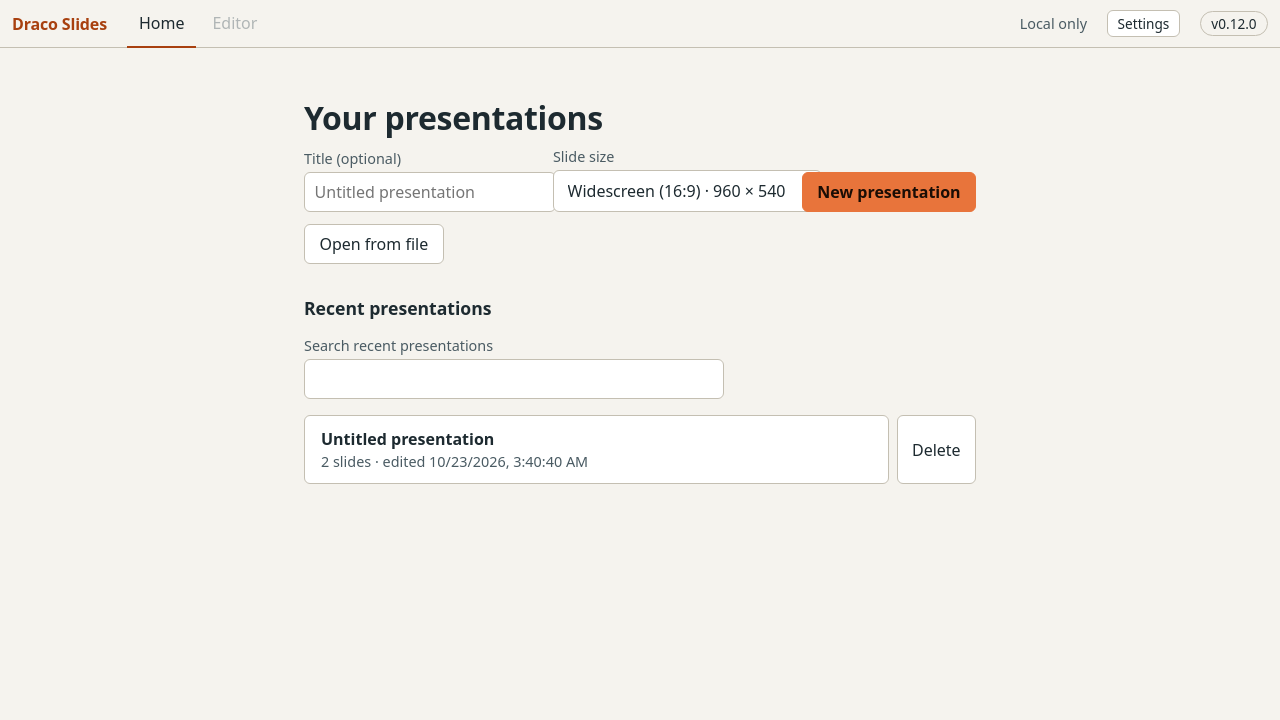
Test case: selection stays synchronized › shows slide names under the thumbnails
Click the button "New presentation" at (889, 192), box left=802, top=172, right=976, bottom=212
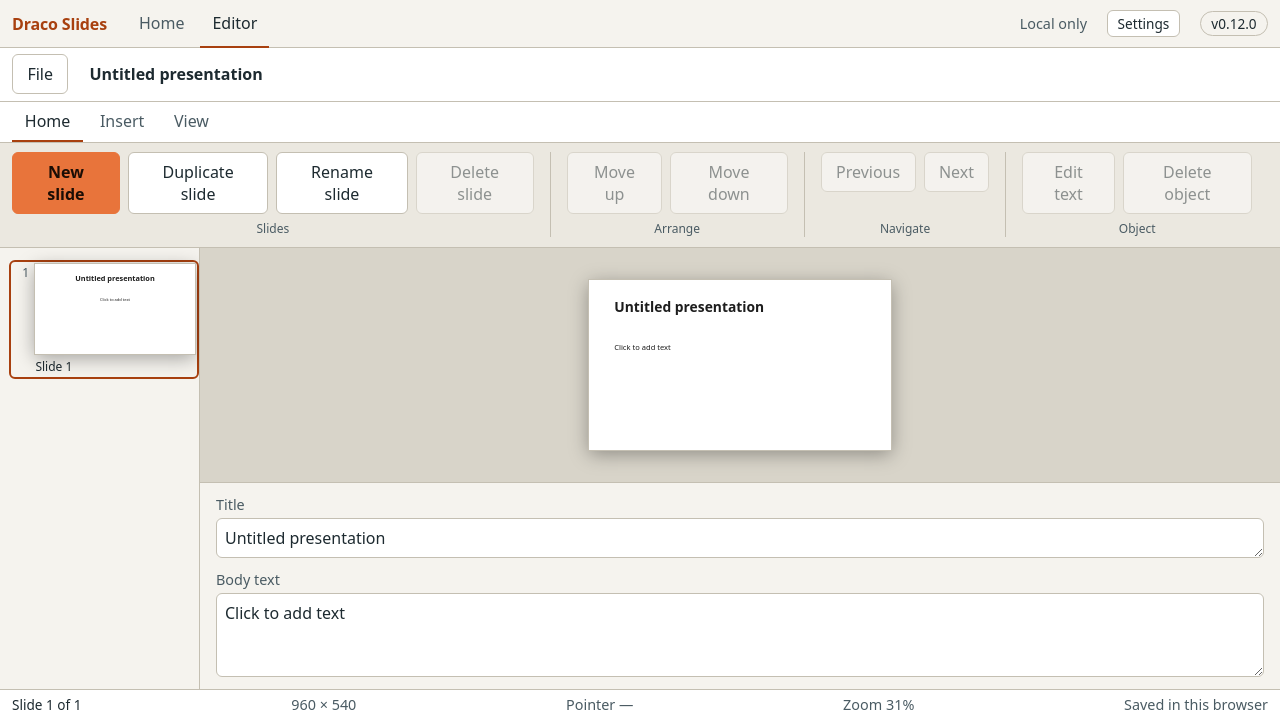
Expected: the text "Slide 1" is shown, left=35, top=358, right=72, bottom=375
